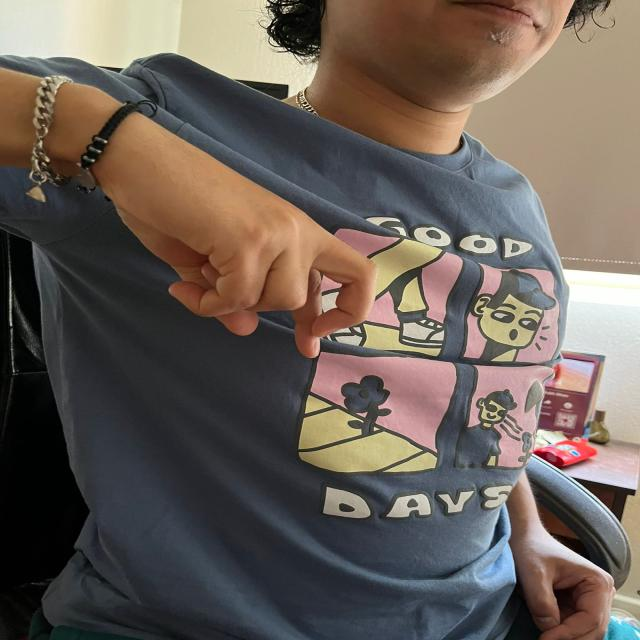P: (68, 80, 381, 360)
